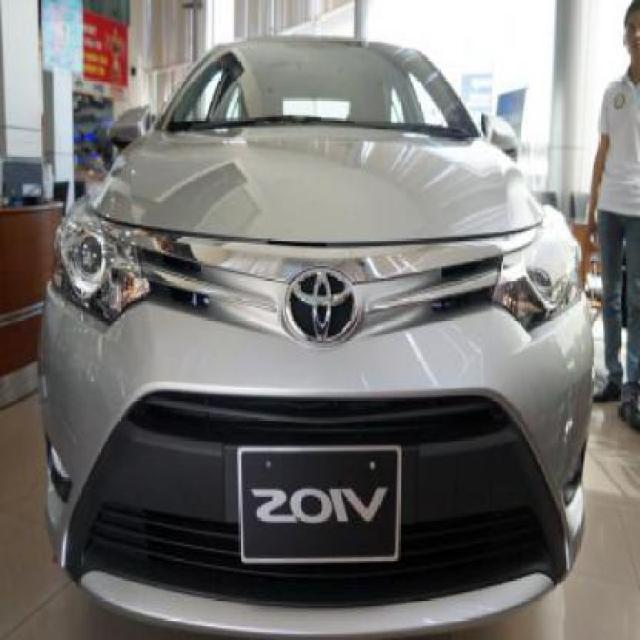ToyotaVios: (36, 32, 596, 638)
